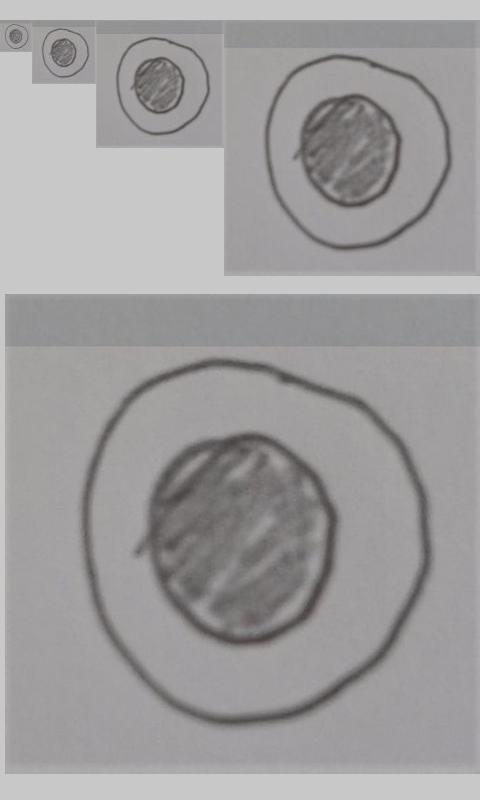radio_button: (76, 355, 436, 731), (262, 52, 453, 256), (115, 36, 211, 136), (41, 27, 90, 79), (4, 23, 29, 50)
